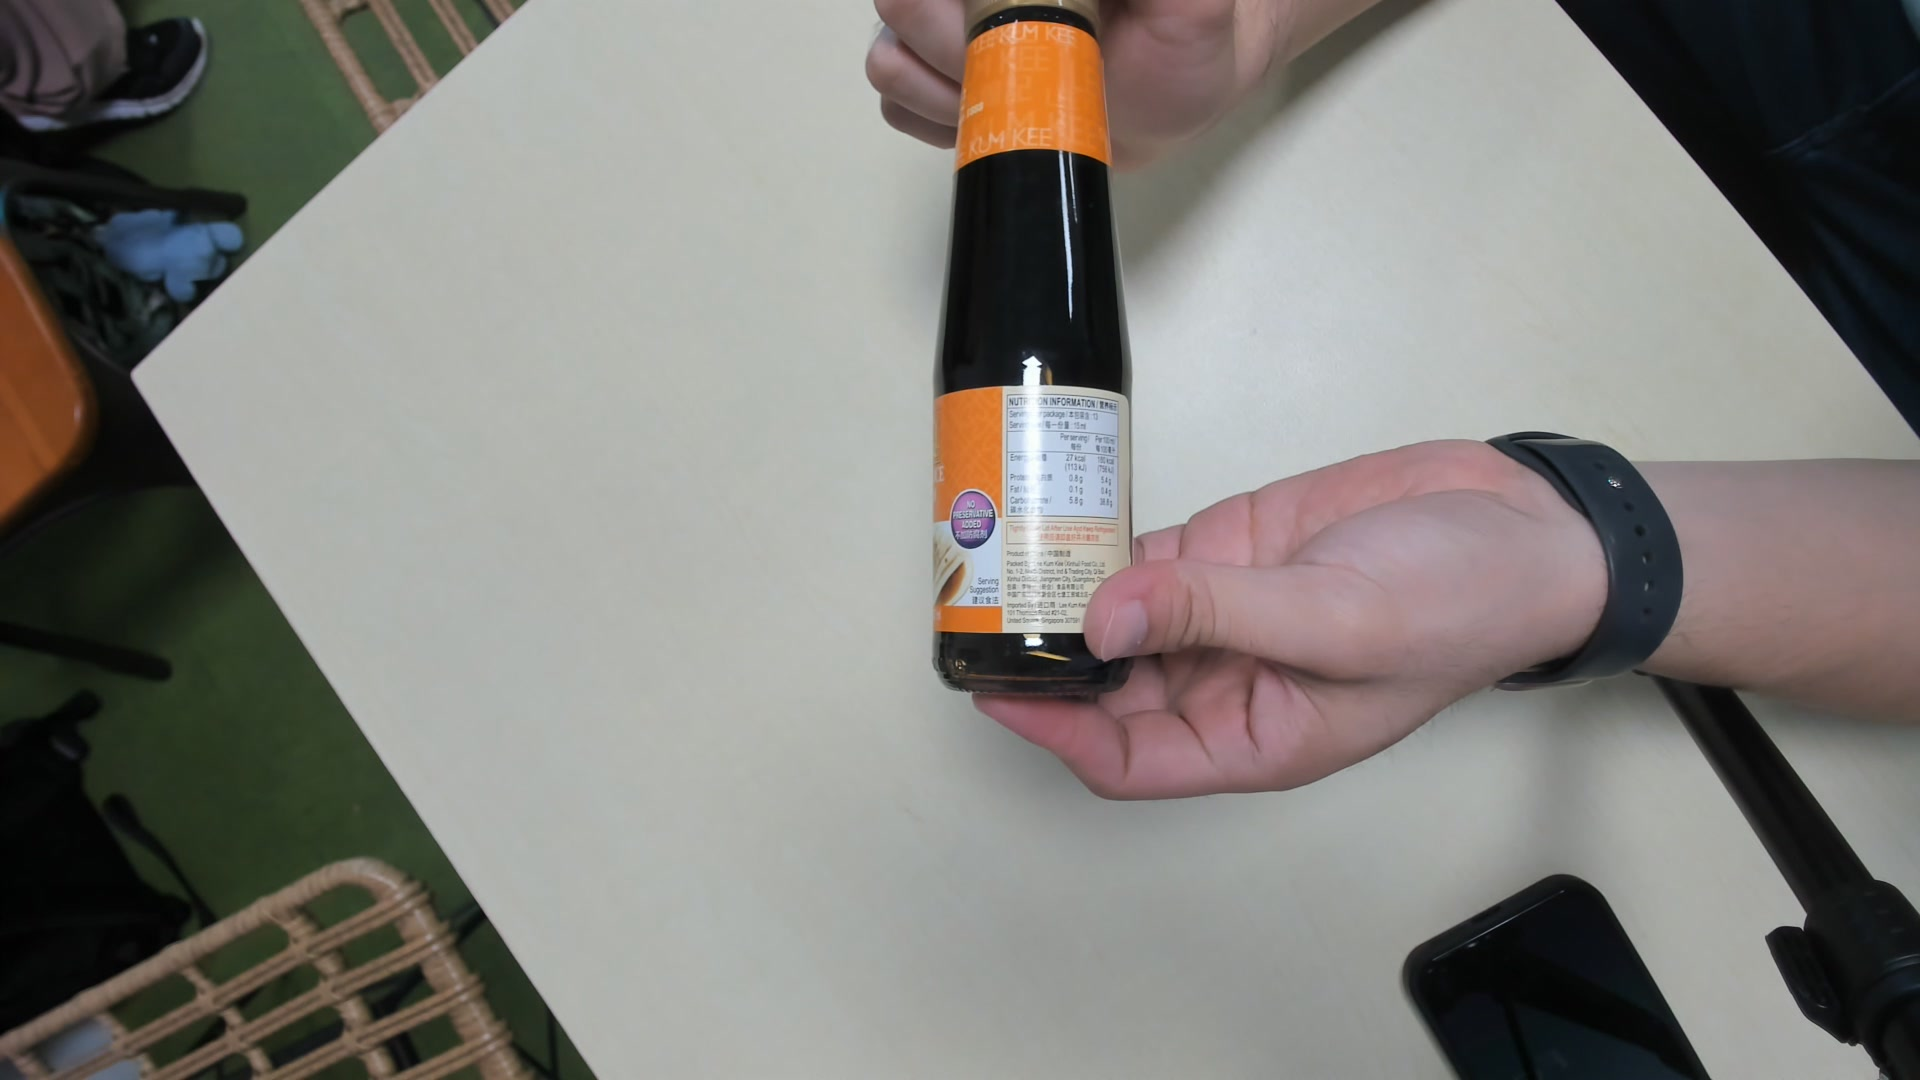OtherSauceDressing_200-299g_NonHalal_NonHealthy: (938, 1, 1137, 696)
